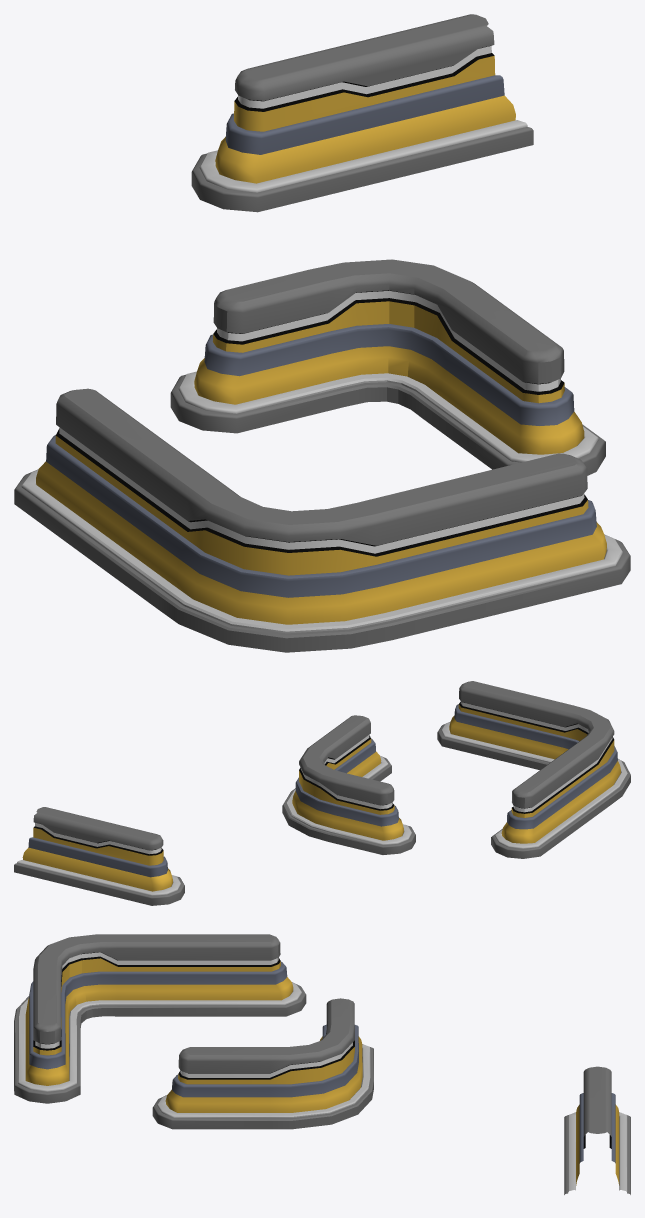
File: SmallWalls.fbx
3 renders of one model, top to bottom at view 1: azimuth 30°, elevation 25°; view 2: azimuth 150°, elevation 25°; view 3: azimuth 270°, elevation 25°, orthographic. The views are drawn at different scales.
Visible parts, largest first — view 1: SmallWall3, SmallWall2, SmallWall1; view 2: SmallWall3, SmallWall2, SmallWall1; view 3: SmallWall3, SmallWall2, SmallWall1.
Part boxes in pixels (x1=…): SmallWall3: x1=14, y1=388, x2=630, y2=652; SmallWall2: x1=170, y1=259, x2=605, y2=475; SmallWall1: x1=191, y1=14, x2=533, y2=212; SmallWall3: x1=437, y1=681, x2=630, y2=858; SmallWall2: x1=282, y1=715, x2=415, y2=854; SmallWall1: x1=14, y1=807, x2=184, y2=905; SmallWall3: x1=14, y1=934, x2=306, y2=1103; SmallWall2: x1=152, y1=998, x2=373, y2=1129; SmallWall1: x1=564, y1=1066, x2=630, y2=1194.
Bounding box in the file's own units: 2633 × 374 × 3186.
